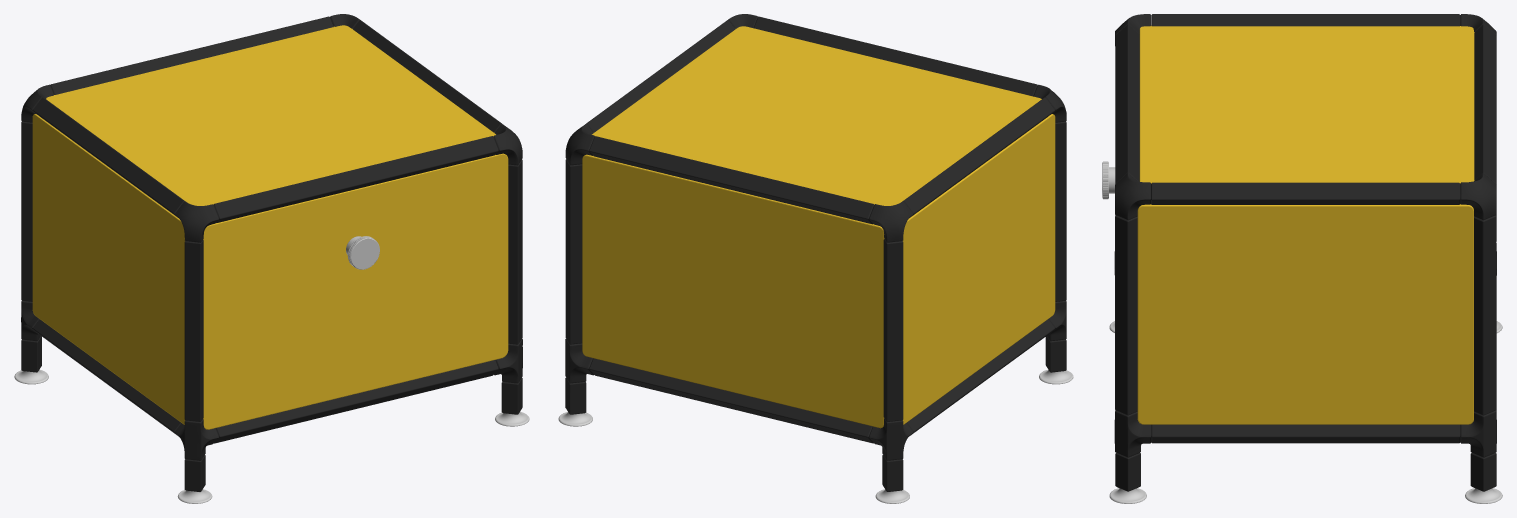
3 renders of one model, left to right at view 1: azimuth 30°, elevation 25°; view 2: azimuth 150°, elevation 25°; view 3: azimuth 270°, elevation 25°, orthographic. The views are drawn at different scales.
Parts seen in each view (by area): view 1: 374x329x229; view 2: 374x329x229; view 3: 374x329x229.
Boxes of the visible parts, x1=… form: 374x329x229: x1=14, y1=14, x2=529, y2=503; 374x329x229: x1=558, y1=14, x2=1073, y2=503; 374x329x229: x1=1102, y1=14, x2=1502, y2=503.
Size of the model in its own units: 0.4639 by 0.3682 by 0.4256.
